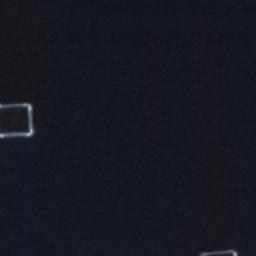square_solid: (1, 97, 35, 142)
